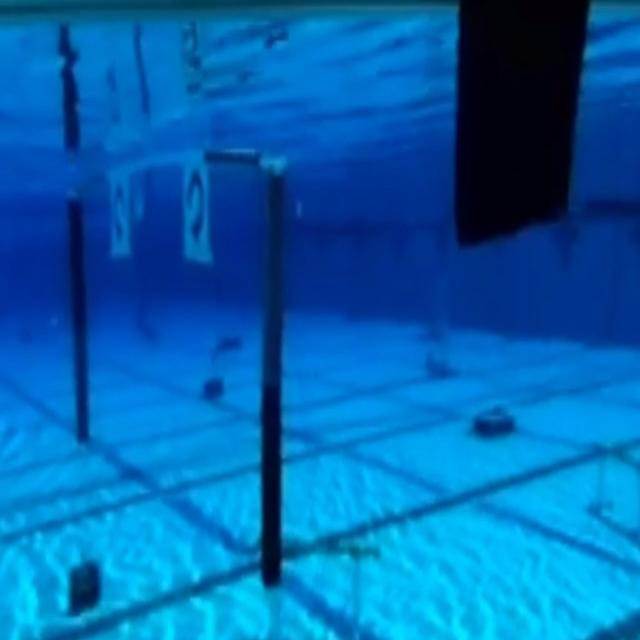Gate: (55, 165, 288, 588)
